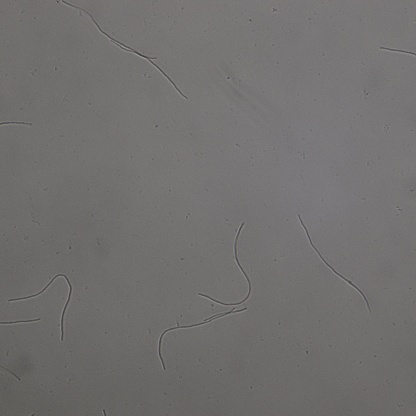Sensitive: (299, 216, 369, 310), (60, 1, 156, 59), (157, 309, 247, 370), (199, 221, 251, 308), (8, 275, 74, 340), (112, 42, 187, 99), (1, 316, 42, 327), (380, 47, 416, 57), (1, 116, 32, 127)
